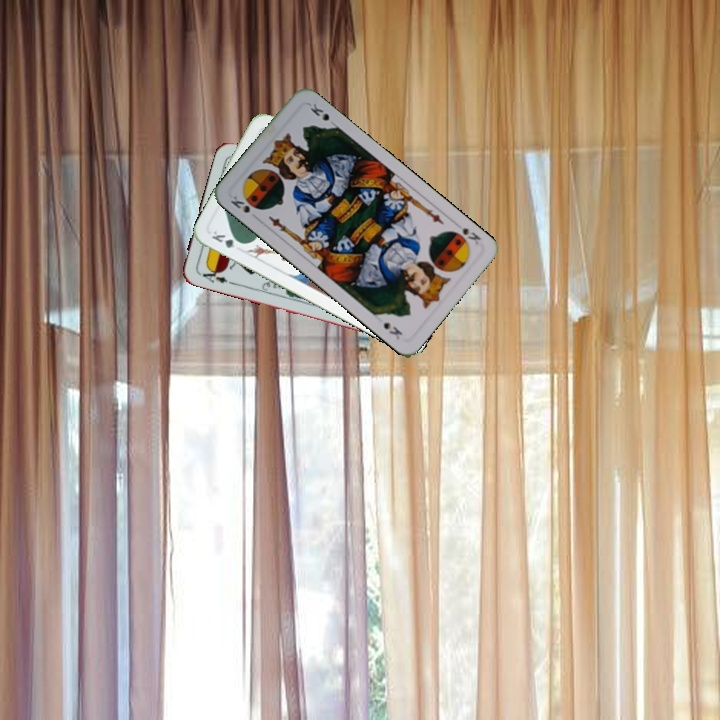EA: (195, 264, 230, 286)
GK: (207, 227, 246, 251)
SK: (226, 191, 260, 216), (458, 223, 484, 247)
